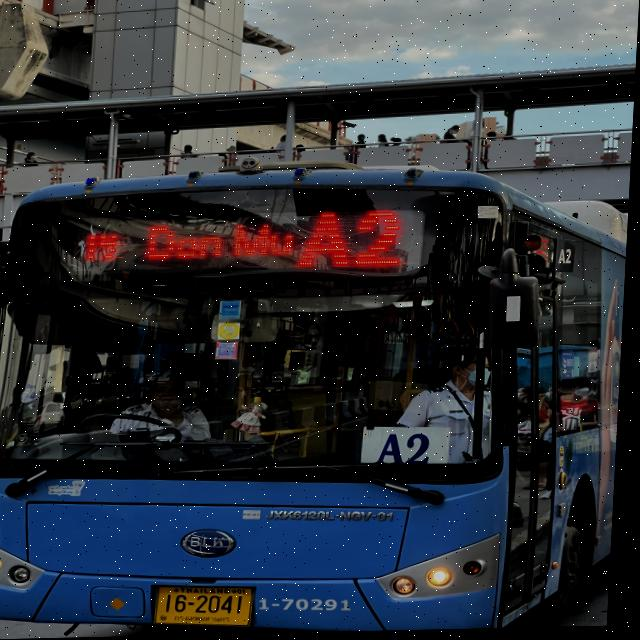BMTA-bus: (0, 158, 630, 638)
Bus Line Number: (292, 202, 423, 279)
Bus Side Number: (261, 586, 365, 621)
Destination Sign: (366, 426, 456, 469)
